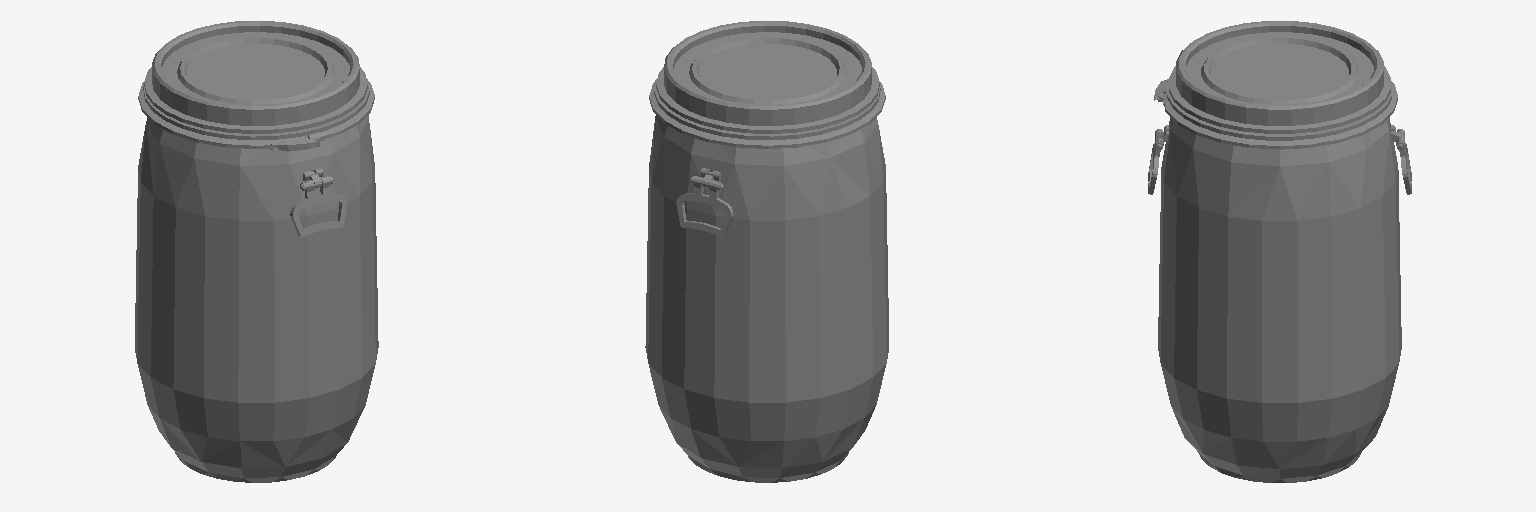
File: SM_Plastic_Barrel_001.obj
The picture shows the model from 3 angles: view 1: azimuth 30°, elevation 25°; view 2: azimuth 150°, elevation 25°; view 3: azimuth 270°, elevation 25°; orthographic projection.
Parts seen in each view (by area): view 1: SM_Barrel_001, SM_Cap_001; view 2: SM_Barrel_001, SM_Cap_001; view 3: SM_Barrel_001, SM_Cap_001.
Boxes of the visible parts, x1,y1,x2,y2 form: SM_Barrel_001: [135, 79, 378, 482]; SM_Cap_001: [144, 21, 367, 133]; SM_Barrel_001: [645, 79, 888, 482]; SM_Cap_001: [656, 21, 879, 133]; SM_Barrel_001: [1148, 79, 1411, 482]; SM_Cap_001: [1169, 21, 1390, 133].
Size of the model in its own units: 38.04 by 66.44 by 41.27.